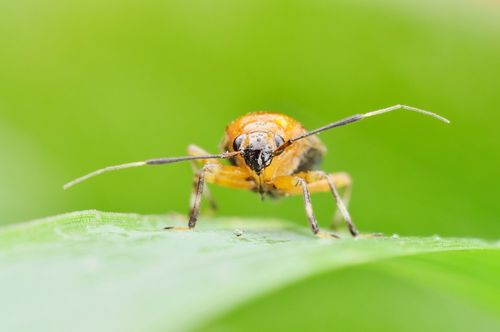Curculionidae: (61, 103, 450, 243)
